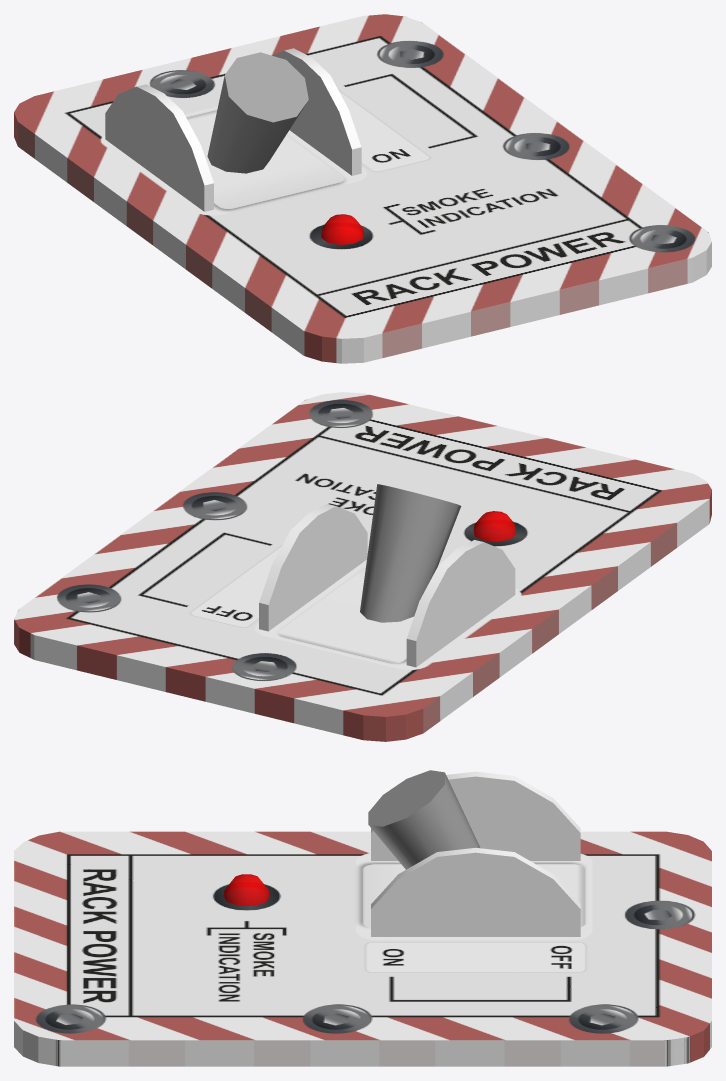
The model's file is RackPowerSwitch.FBX.
3 views of the same model, one above another, from view 1: azimuth 30°, elevation 25°; view 2: azimuth 150°, elevation 25°; view 3: azimuth 270°, elevation 25° (orthographic). The views are drawn at different scales.
Parts seen in each view (by area): view 1: Baseplate, PowerSwitch, Guide_l, Guide_r, Smoke_Ind; view 2: Baseplate, PowerSwitch, Guide_l, Guide_r, Smoke_Ind; view 3: Baseplate, Guide_r, Guide_l, PowerSwitch, Smoke_Ind.
Boxes of the visible parts, x1,y1,x2,y2 form: Baseplate: [14, 14, 711, 363]; PowerSwitch: [207, 52, 308, 173]; Guide_l: [105, 84, 213, 211]; Guide_r: [272, 48, 361, 175]; Smoke_Ind: [321, 214, 363, 244]; Baseplate: [14, 392, 711, 741]; PowerSwitch: [360, 484, 461, 622]; Guide_l: [406, 540, 515, 667]; Guide_r: [259, 504, 367, 631]; Smoke_Ind: [473, 511, 516, 541]; Baseplate: [14, 831, 711, 1066]; Guide_r: [371, 847, 580, 936]; Guide_l: [371, 771, 580, 860]; PowerSwitch: [368, 770, 480, 869]; Smoke_Ind: [223, 874, 269, 905].
Size of the model in its own units: 0.085 by 0.0278 by 0.12.
4 materials, 1 textured.
